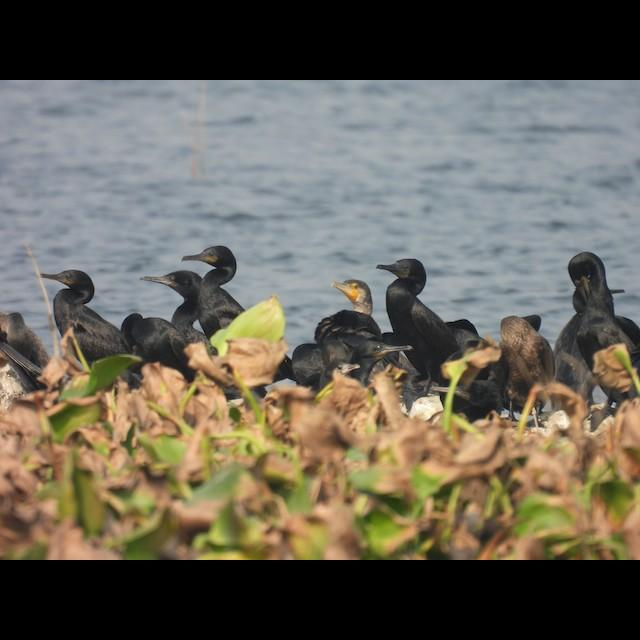cormorant: (378, 256, 466, 364), (562, 250, 632, 382), (36, 269, 114, 353), (177, 240, 249, 324), (326, 275, 374, 321)
